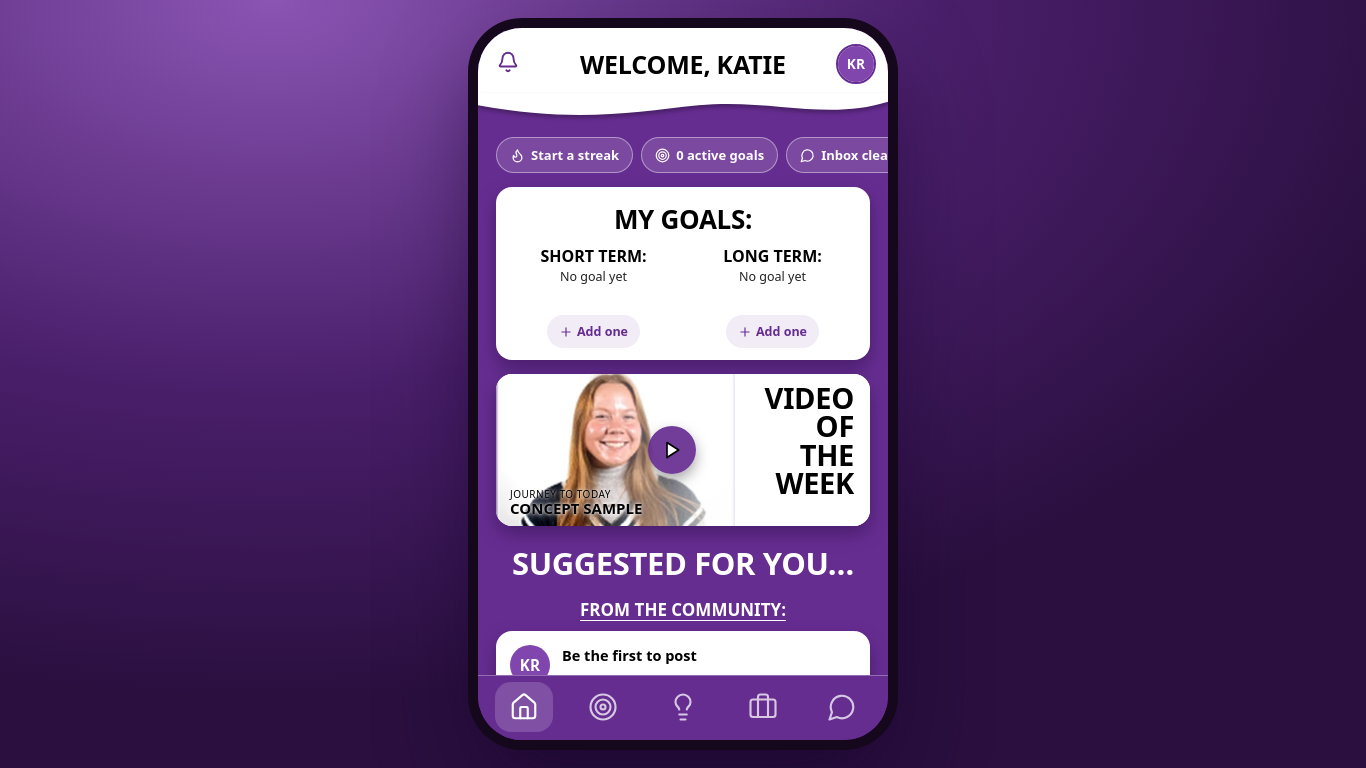
mentors › requests an approved mentor
Expected: the heading "Welcome, Katie" is shown, [580,47,786,81]
Click the button named "Connect".
click(842, 707)  # box [813,682,871,732]
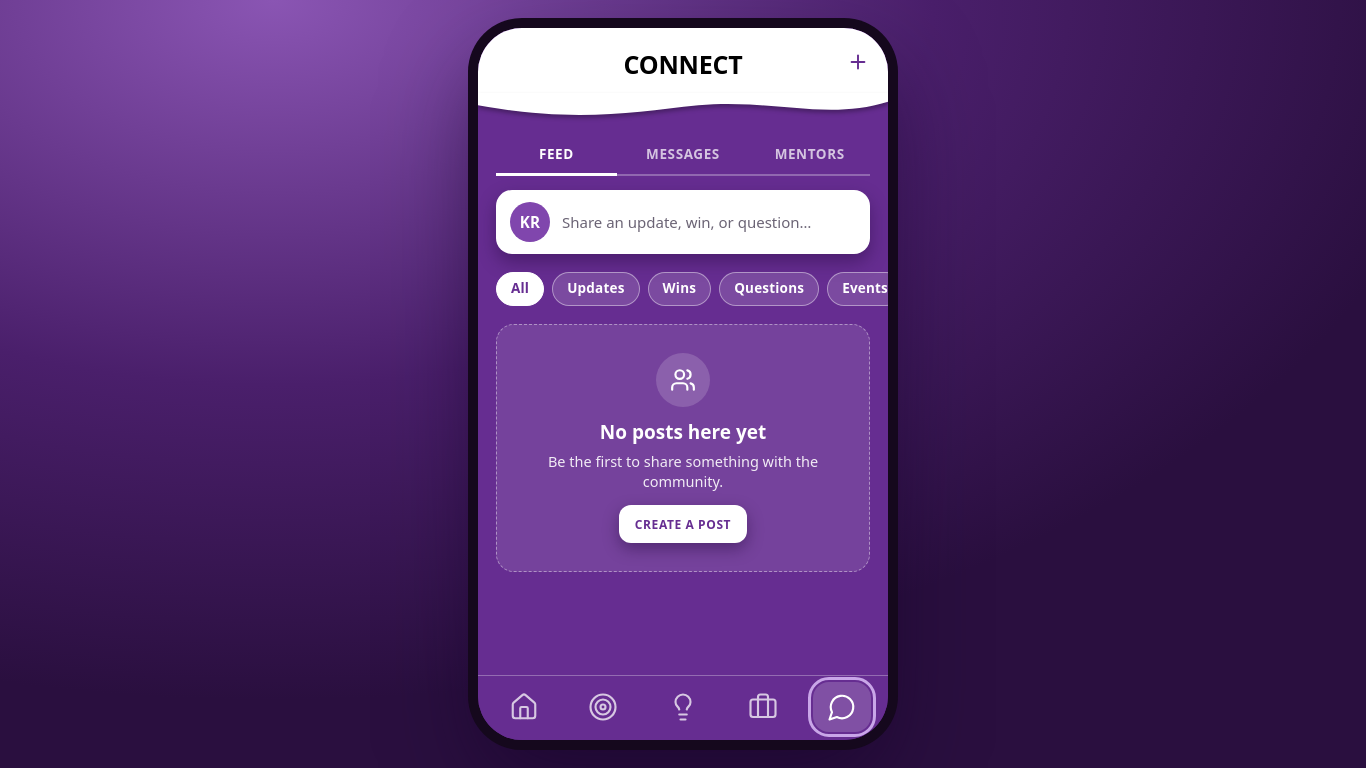
Click the tab "Mentors".
click(810, 156)  # box [749,135,870,176]
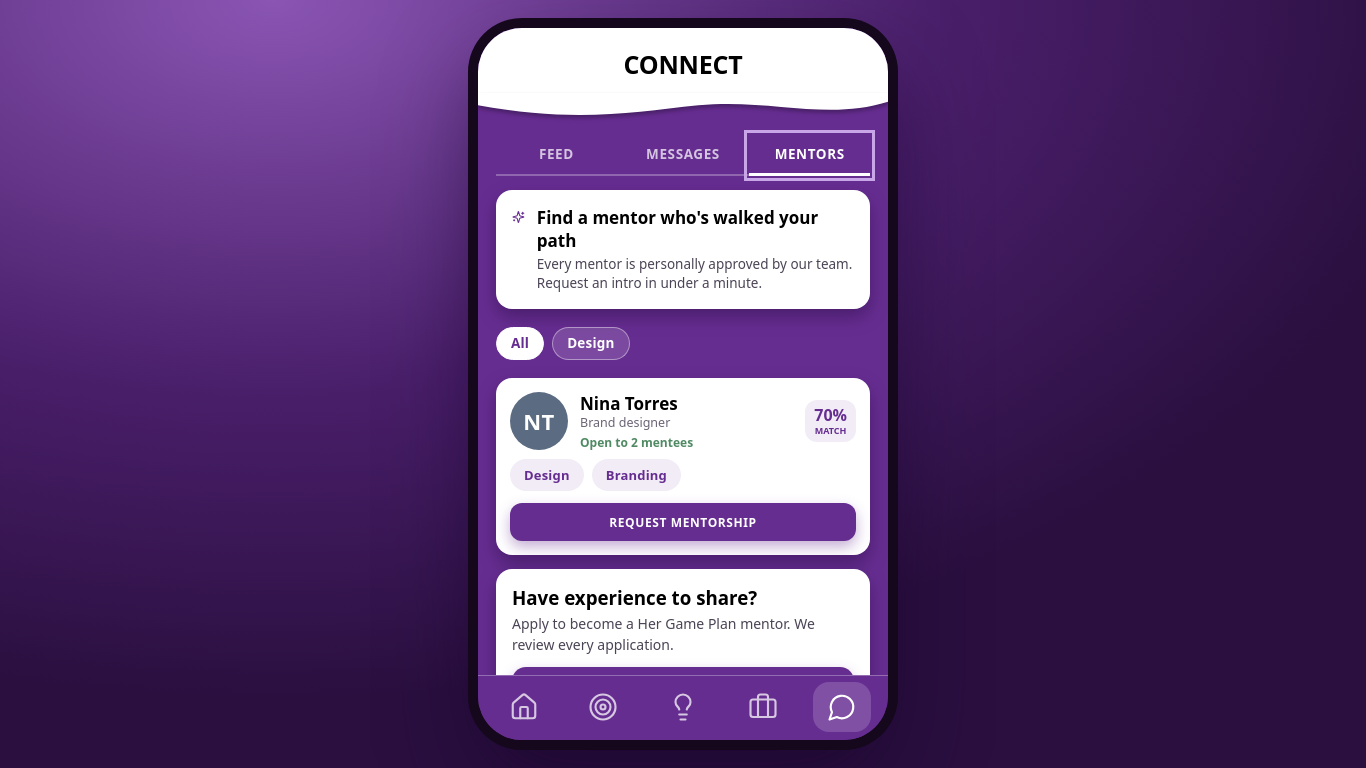
Click the button "Request mentorship".
click(683, 522)  # box [510,504,856,542]
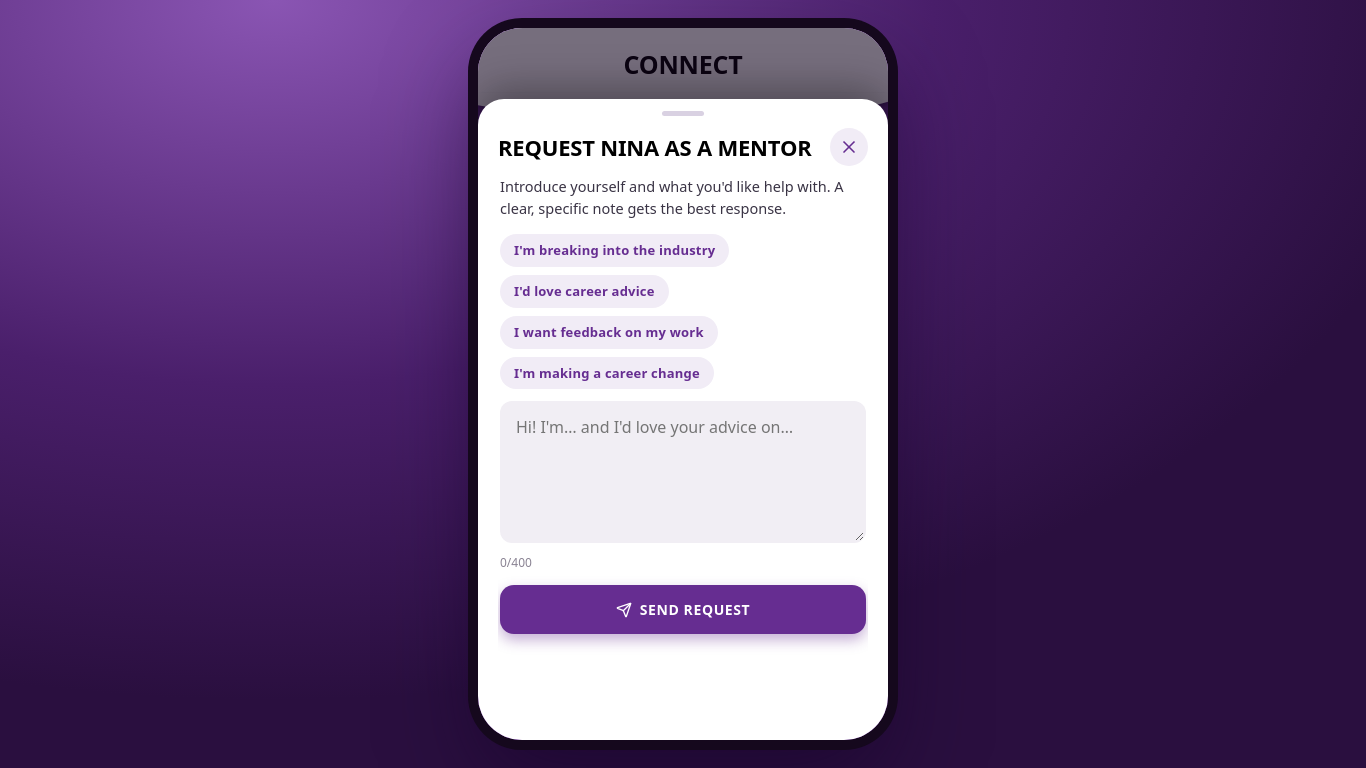
Type "Would love portfolio feedback." into the text box with placeholder "Hi! I'm… and I'd love your advice on…".
click(683, 472); type("Would love portfolio feedback.")  # box [500,402,866,544]
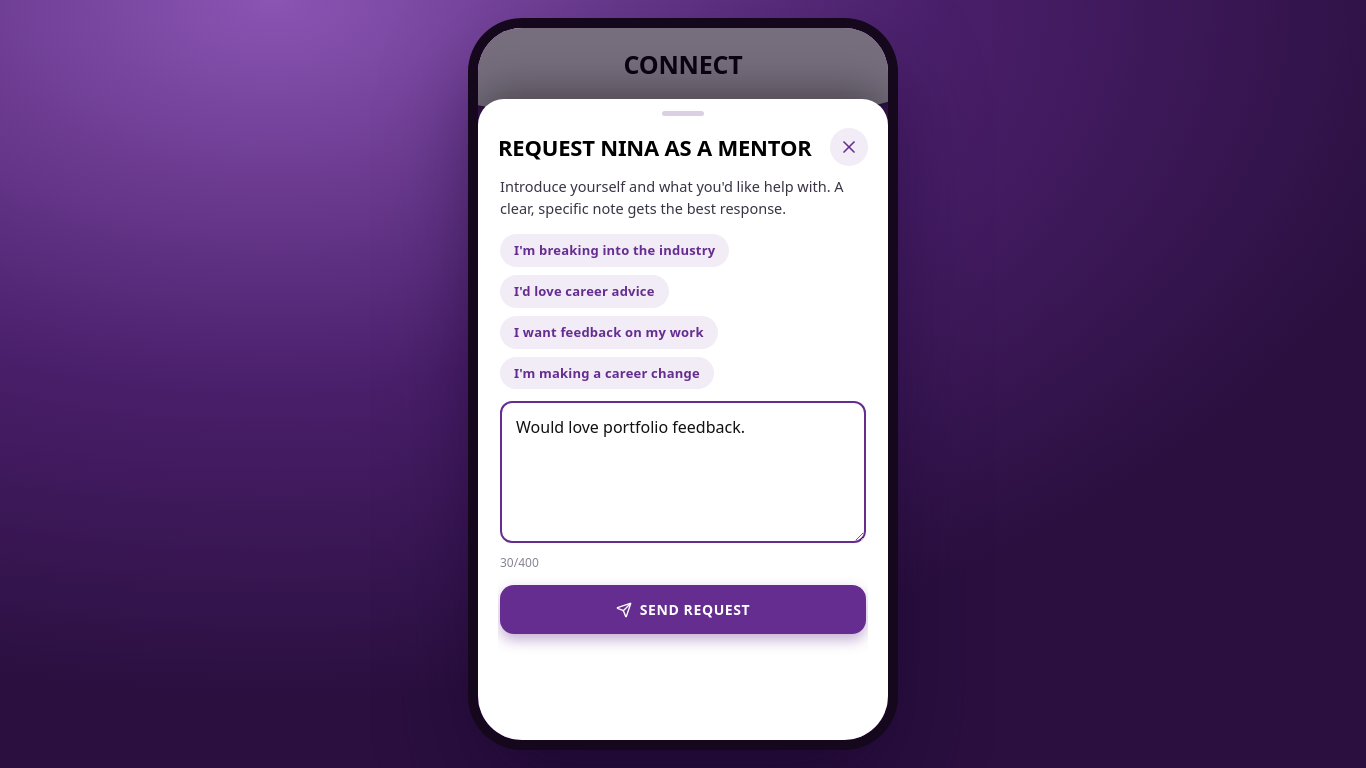
Click the button "Send request".
click(683, 610)  # box [500,585,866,634]
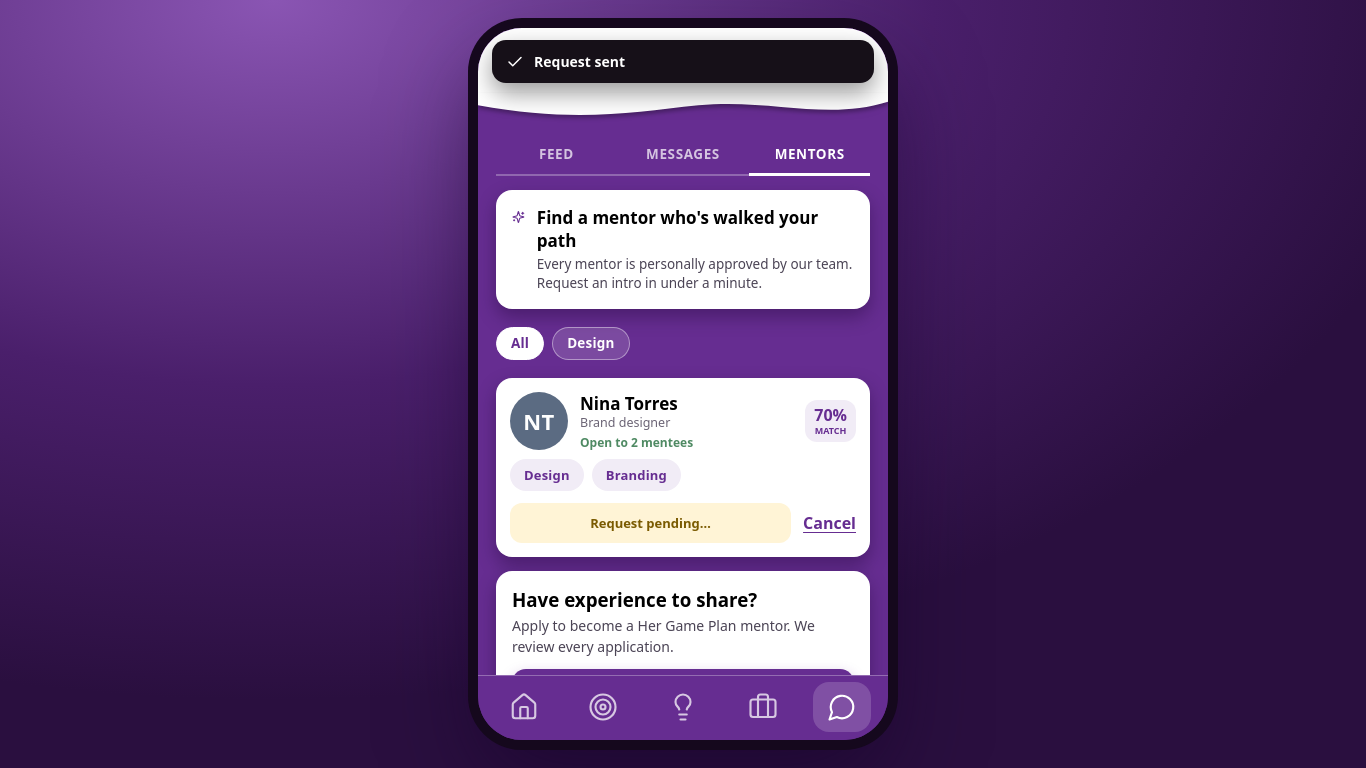
Expected: the text "Request pending…" is shown, [510,504,791,544]
